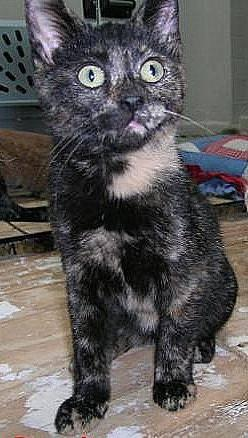cat: (25, 0, 236, 432)
